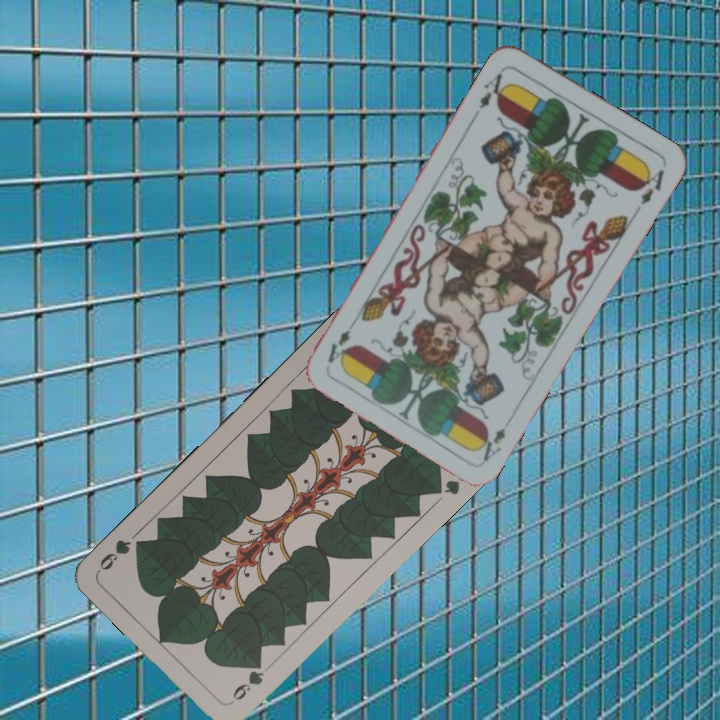EA: (475, 65, 512, 112), (473, 423, 508, 464)
G9: (226, 656, 267, 707)
